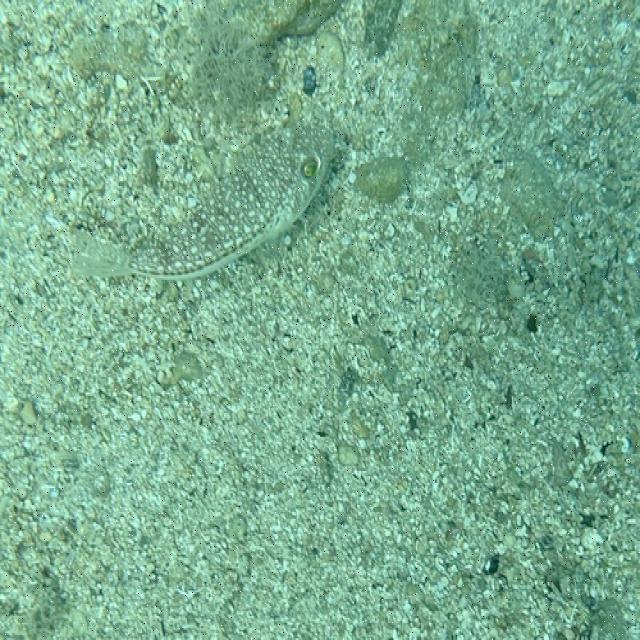Balik: (73, 123, 332, 279)
